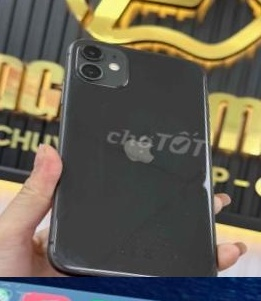scratch: (50, 189, 214, 277), (184, 154, 218, 200), (73, 41, 107, 82)
